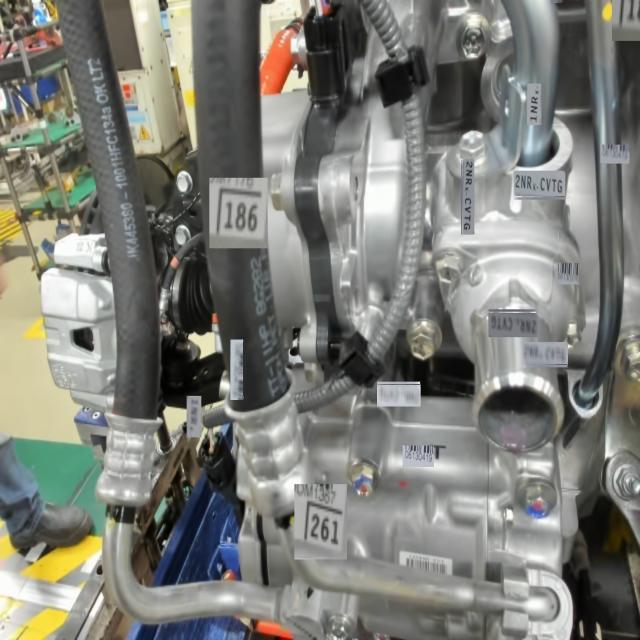Compressor-T: (430, 441, 448, 462)
Engine Assy-186: (214, 182, 264, 245)
Engine Assy-261: (299, 493, 344, 553)
